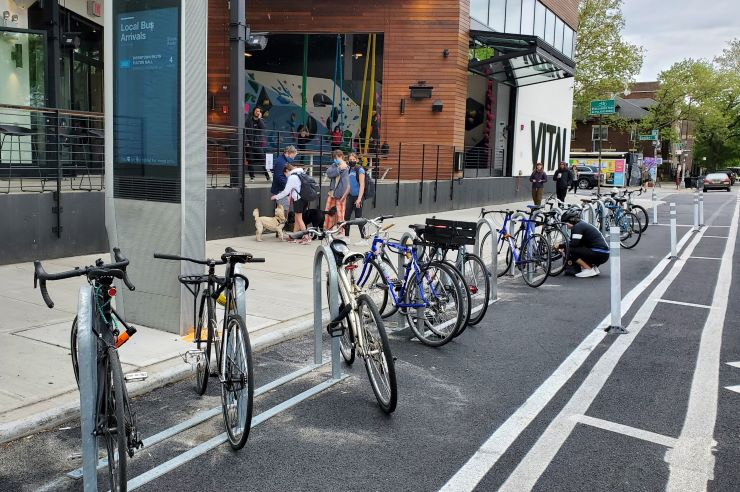Bicycle: (35, 256, 152, 489), (288, 220, 404, 414), (157, 249, 264, 453), (366, 216, 475, 343), (481, 204, 552, 289)
Car: (701, 171, 732, 193)
Dog: (247, 206, 288, 237)
Person: (342, 149, 375, 242), (322, 150, 347, 233), (556, 161, 575, 201), (530, 164, 546, 210)
